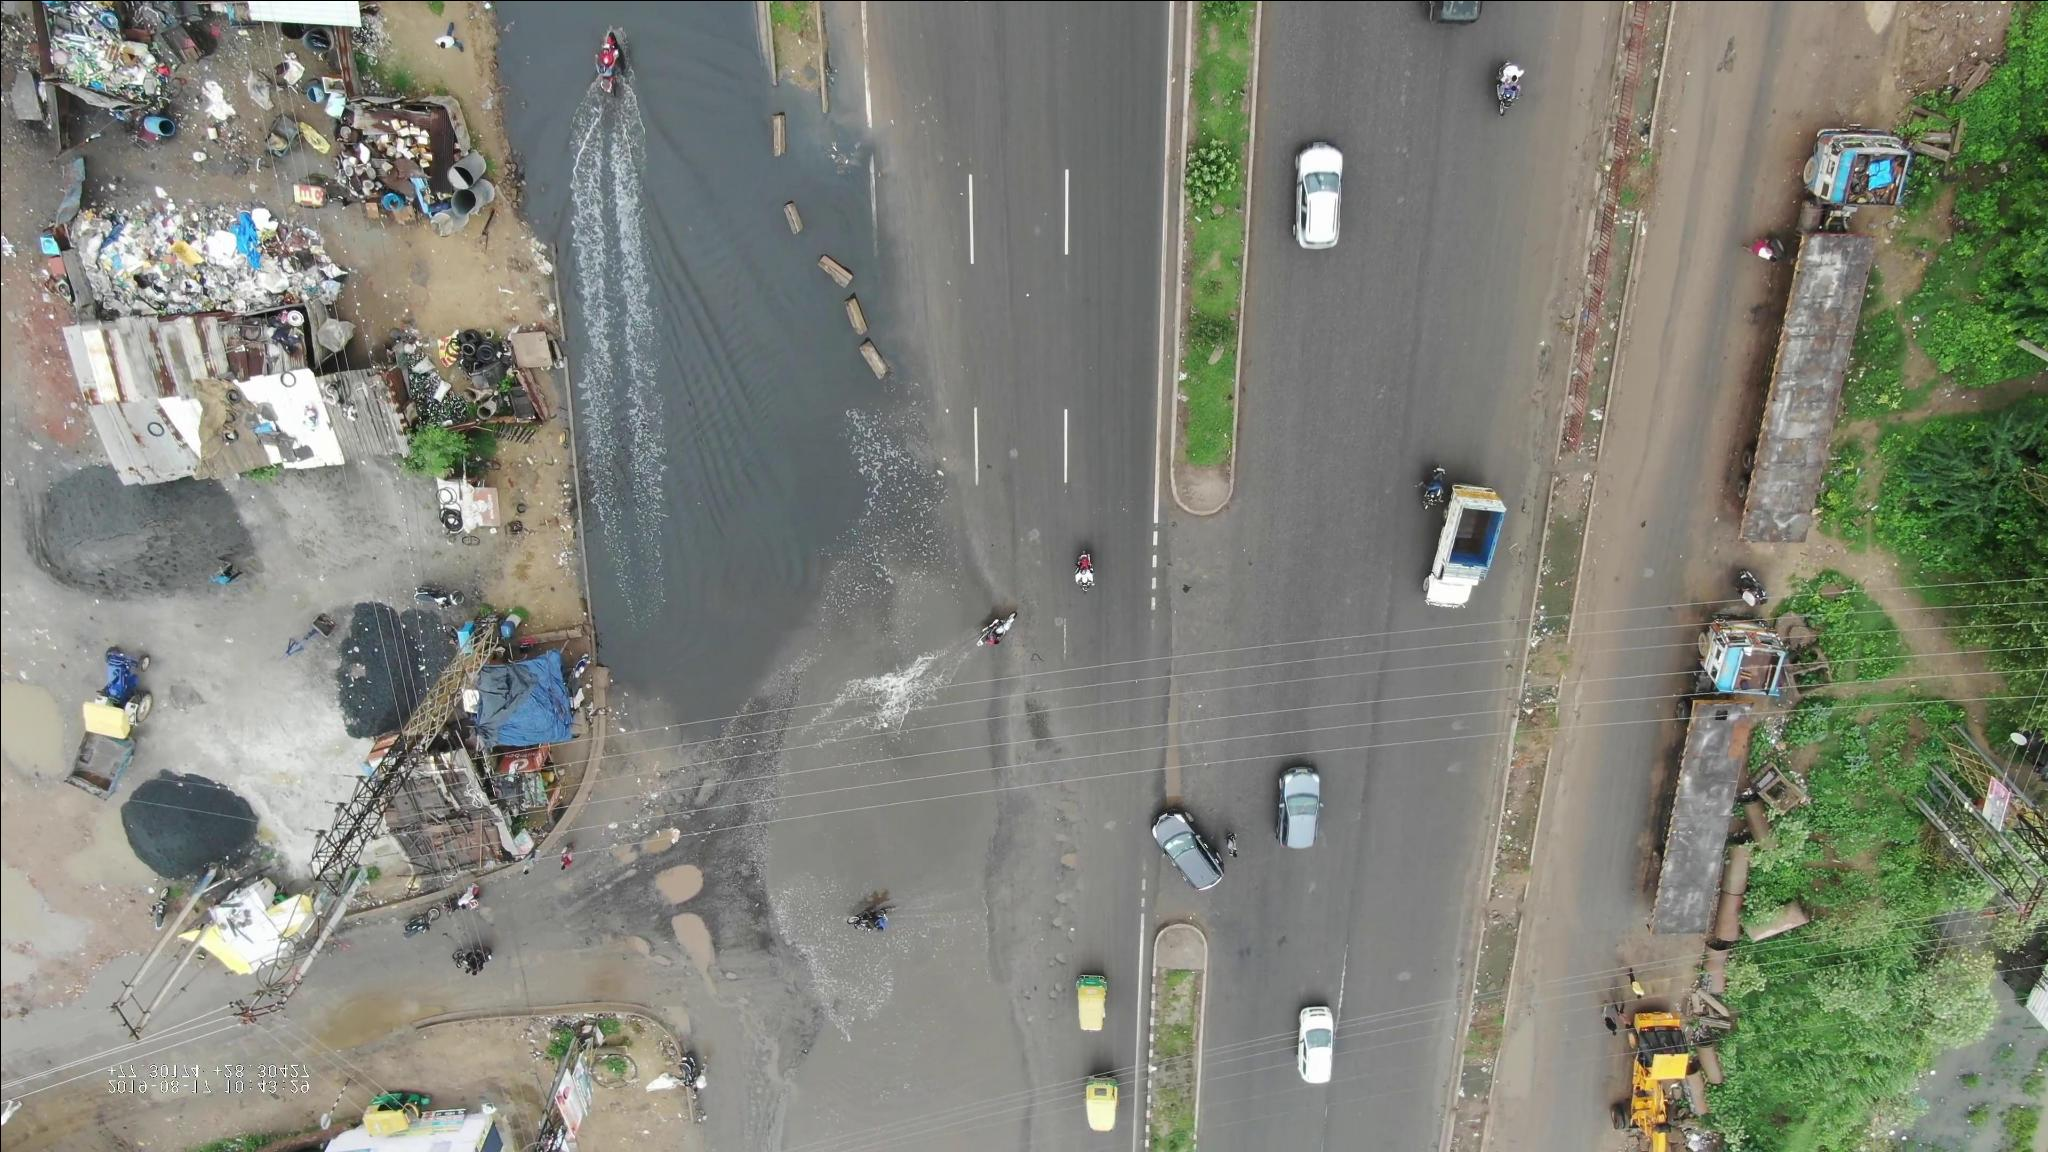Muddy_road: (1605, 246, 1709, 457), (1660, 3, 1753, 238), (1523, 729, 1595, 928)
Potholes: (605, 838, 723, 1016), (1020, 785, 1094, 1032), (1383, 945, 1433, 985)
Waterlogging: (489, 30, 882, 613), (734, 589, 1011, 1077)
